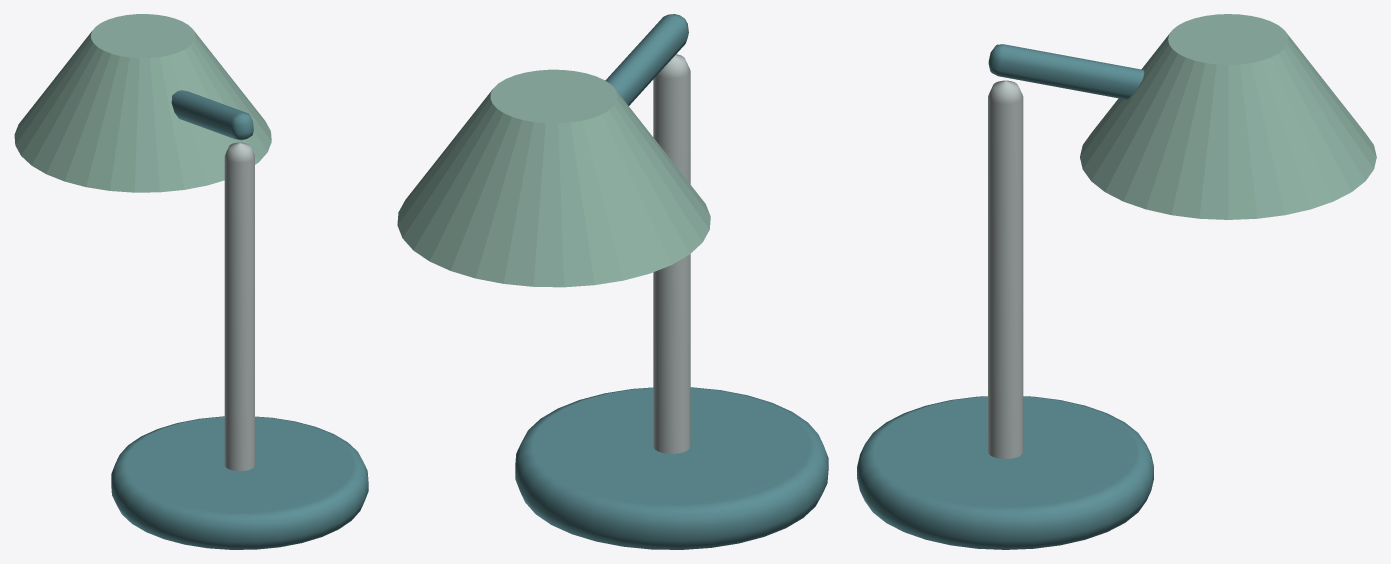
Rendered from lamp.glb.
The picture shows the model from 3 angles, left to right: view 1: azimuth 30°, elevation 25°; view 2: azimuth 150°, elevation 25°; view 3: azimuth 270°, elevation 25°; orthographic projection. The views are drawn at different scales.
Parts seen in each view (by area): view 1: lamp-shade, lamp-base, lamp-arm, lamp-upper; view 2: lamp-shade, lamp-base, lamp-arm, lamp-upper; view 3: lamp-shade, lamp-base, lamp-arm, lamp-upper.
Part boxes in pixels (x1,y1,x2,y2): lamp-shade: (14,14,271,192); lamp-base: (111,416,368,549); lamp-arm: (224,142,254,471); lamp-upper: (171,90,253,140); lamp-shade: (397,69,710,287); lamp-base: (515,387,828,549); lamp-arm: (653,54,690,453); lamp-upper: (605,14,688,105); lamp-shade: (1080,14,1376,219); lamp-base: (857,396,1153,549); lamp-arm: (988,80,1023,458); lamp-upper: (988,44,1144,99).
Size of the model in its own units: 0.32 by 0.54 by 0.56.
